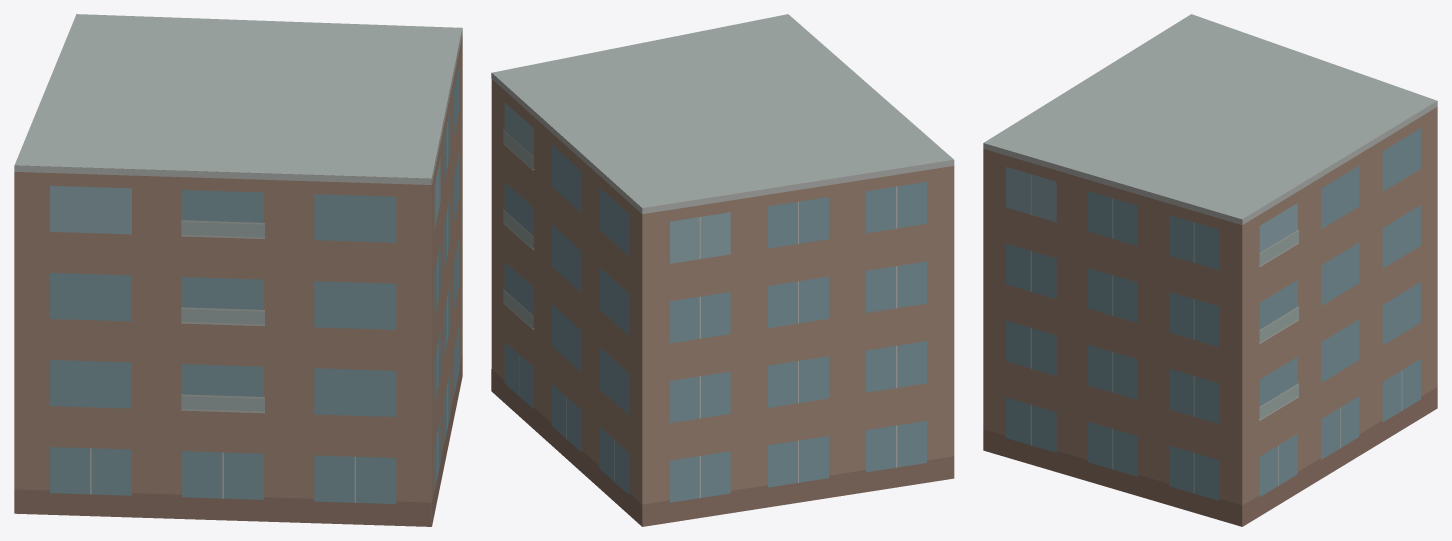
The model's file is survey-upis-32477303.glb.
3 renders of one model, left to right at view 1: azimuth 30°, elevation 25°; view 2: azimuth 150°, elevation 25°; view 3: azimuth 270°, elevation 25°, orthographic. The views are drawn at different scales.
Parts seen in each view (by area): view 1: survey-upis-32477303.tmp; view 2: survey-upis-32477303.tmp; view 3: survey-upis-32477303.tmp.
Boxes of the visible parts, box(x1,y1,x2,y2) form: survey-upis-32477303.tmp: box(14, 14, 462, 526); survey-upis-32477303.tmp: box(491, 14, 954, 526); survey-upis-32477303.tmp: box(983, 14, 1437, 526).
Bounding box in the file's own units: 18.64 × 13 × 17.42.
